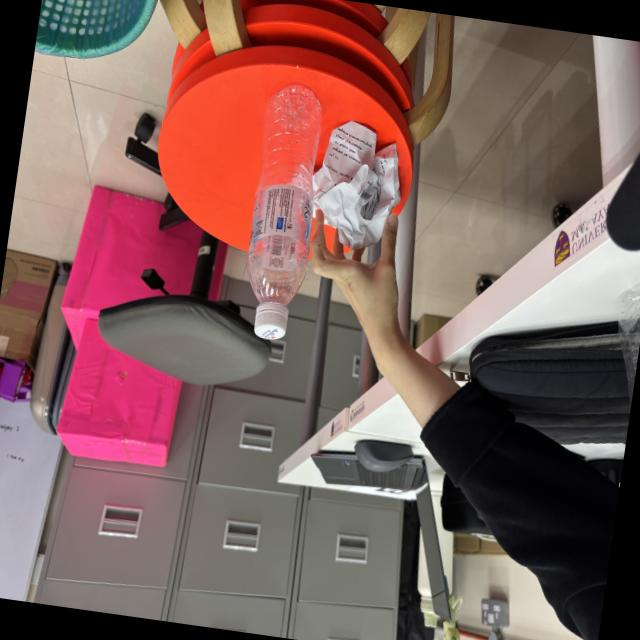crumpled_paper: (294, 104, 420, 266)
plastic_bottle: (228, 68, 340, 352)
